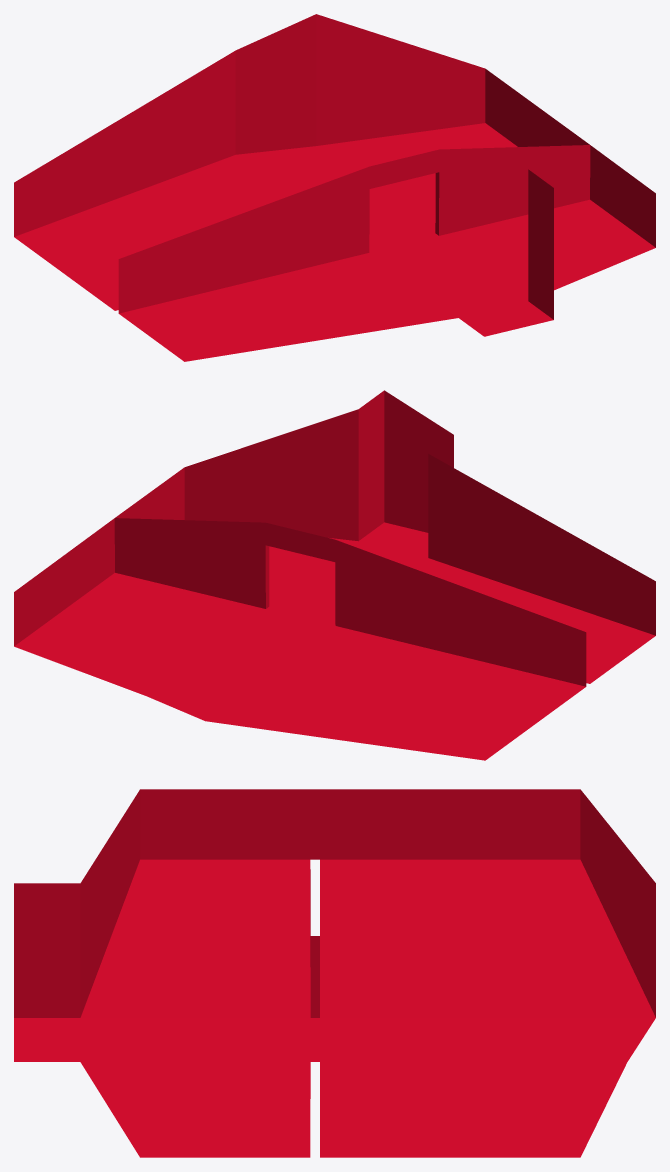
Rendered from museo.glb.
3 views of the same model, one above another, from view 1: azimuth 30°, elevation 25°; view 2: azimuth 150°, elevation 25°; view 3: azimuth 270°, elevation 25° (orthographic). The views are drawn at different scales.
Parts seen in each view (by area): view 1: Cube; view 2: Cube; view 3: Cube.
Boxes of the visible parts, x1,y1,x2,y2 form: Cube: (14,14,655,361); Cube: (14,390,655,760); Cube: (14,789,655,1157).
Bounding box in the file's own units: 18.12 × 4.86 × 16.55.
